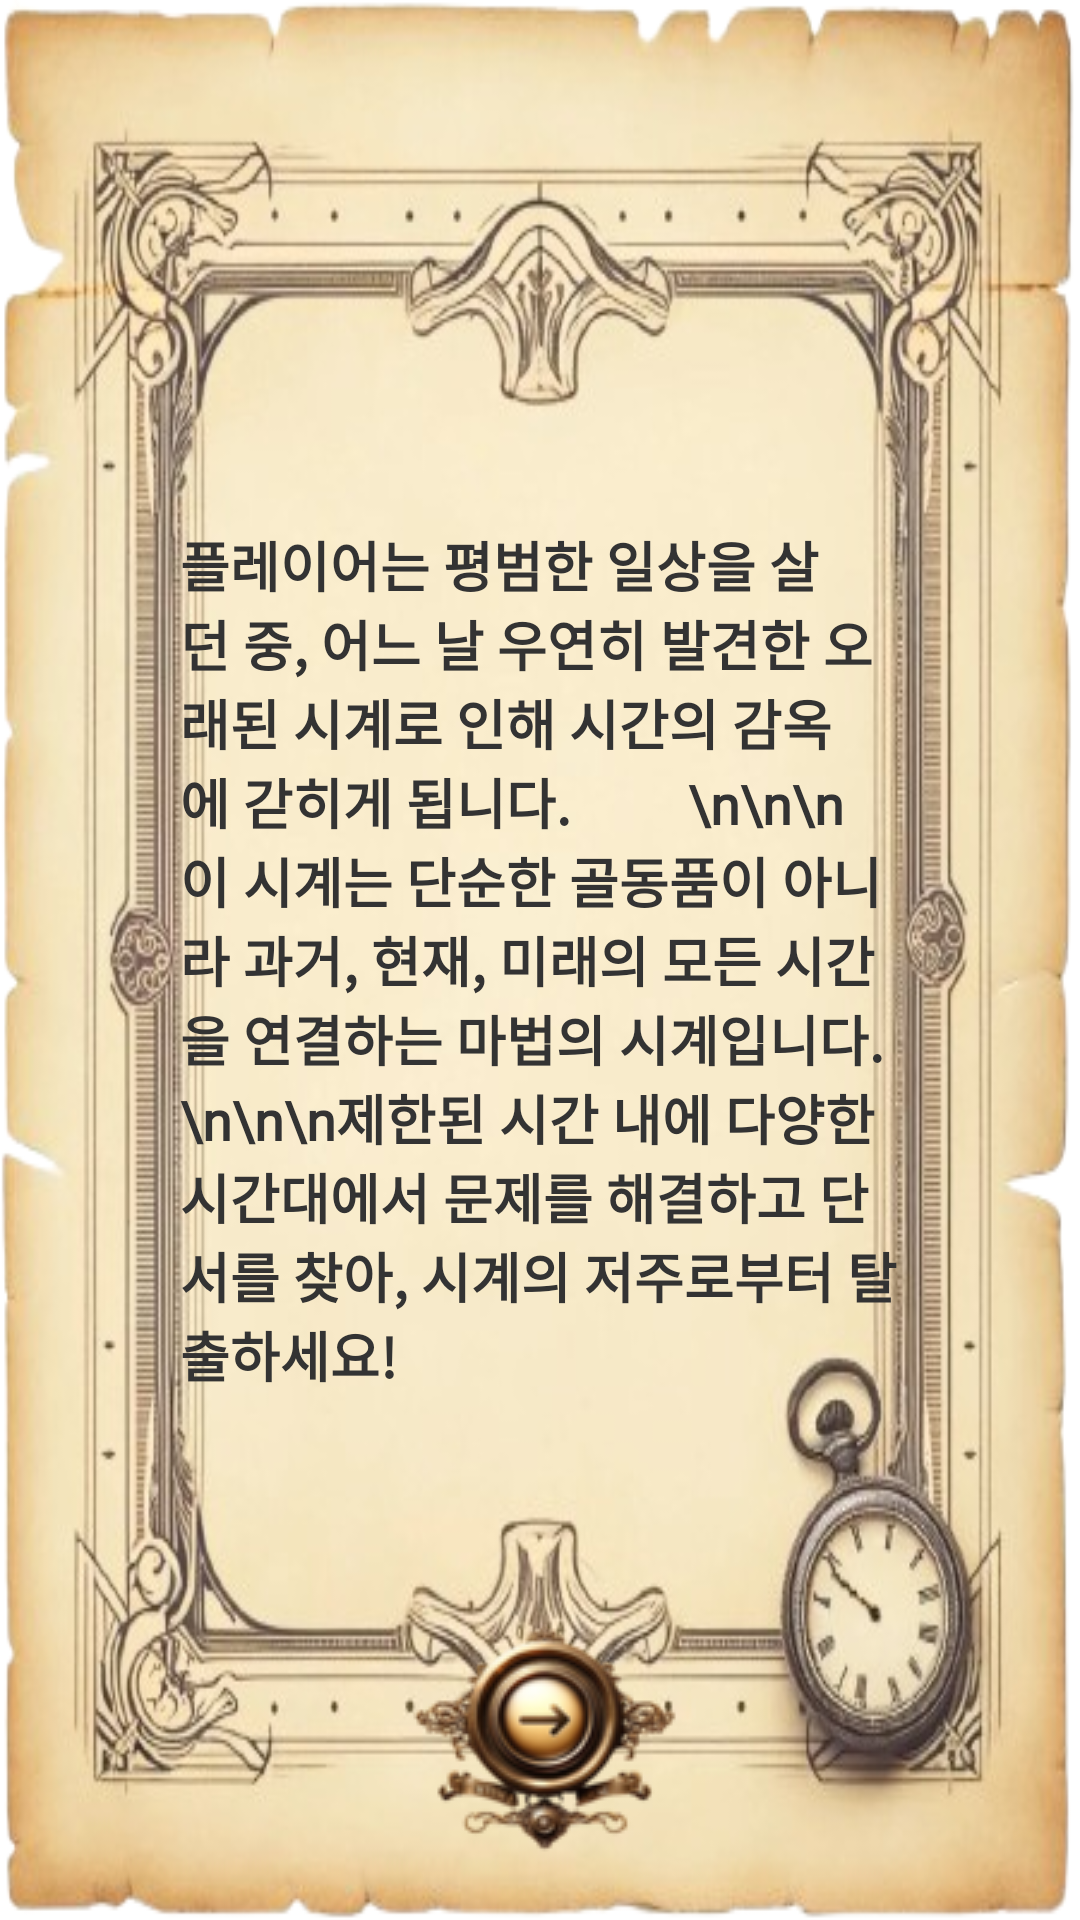

Locate icon controls on the screen. Image size 1080px x 1920px, boxes as [x1, y1, x2, y2].
Next: [390, 1572, 690, 1872]
